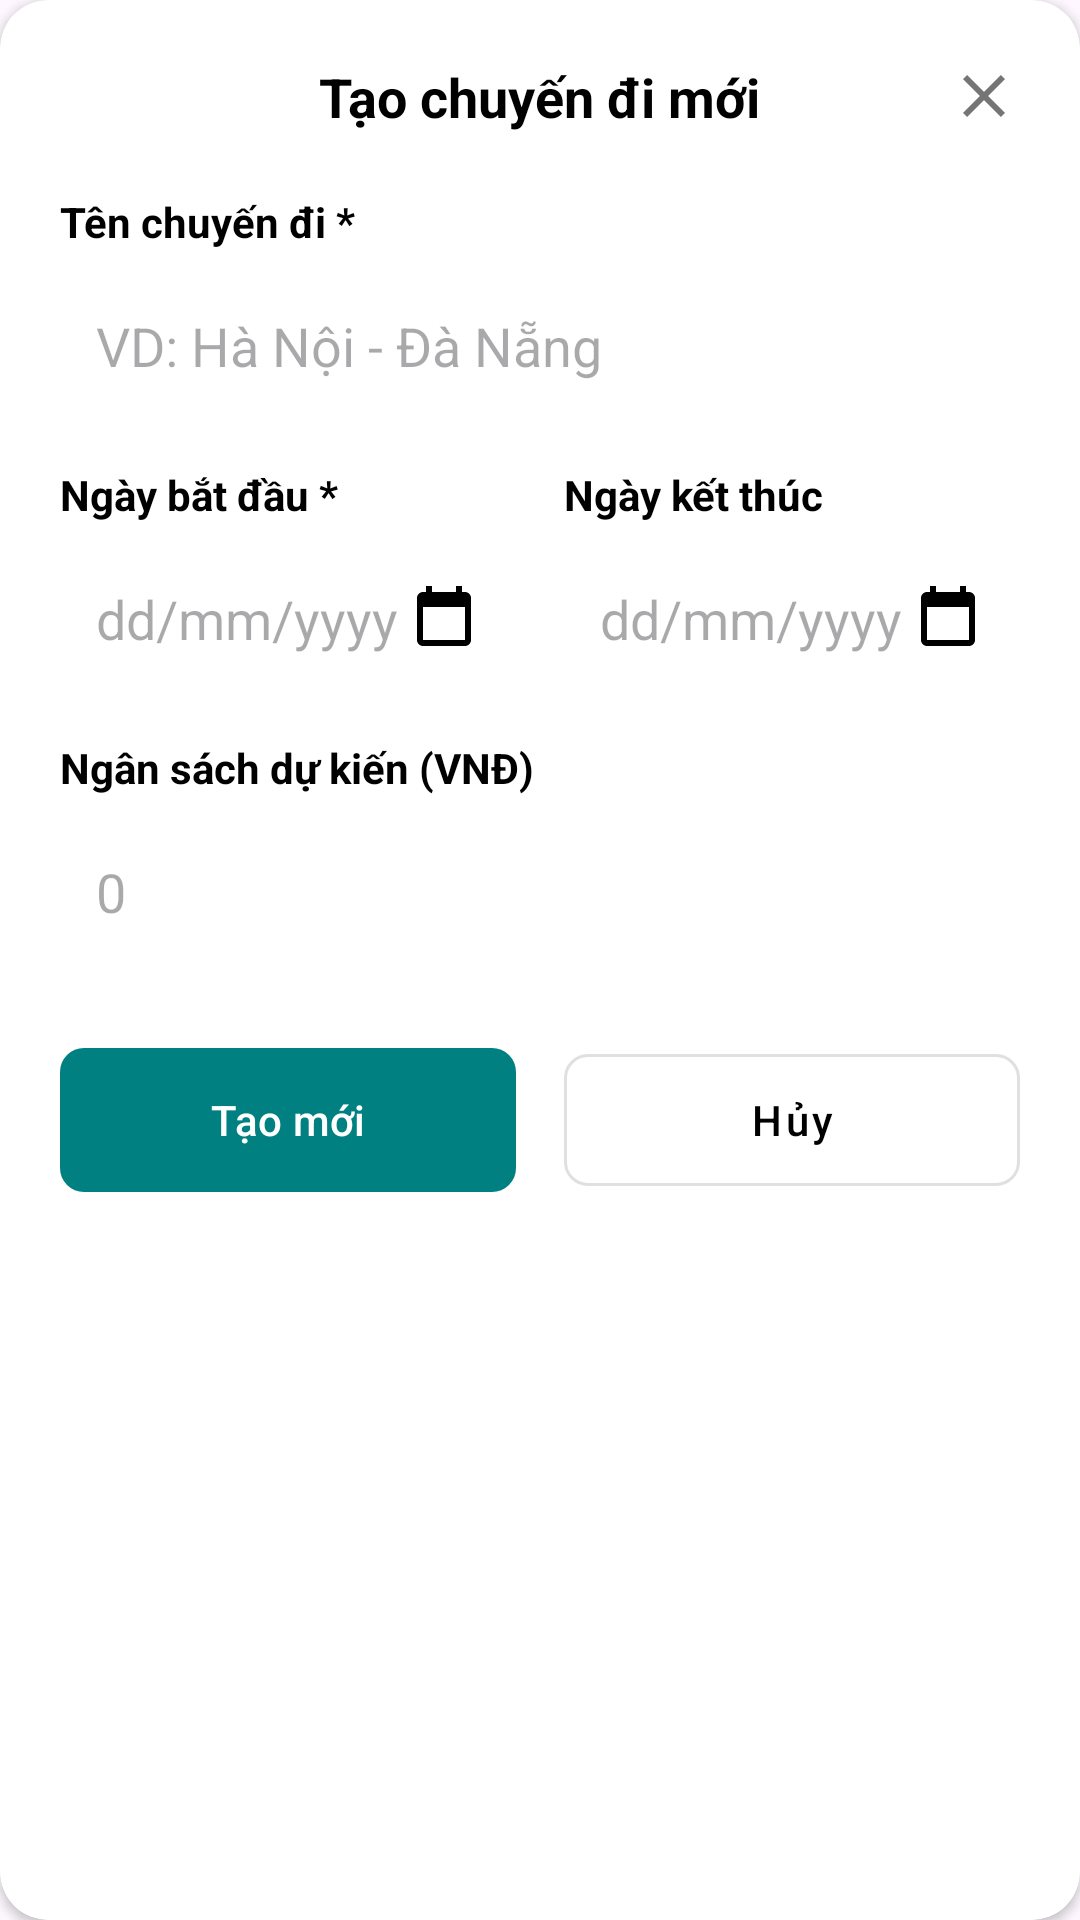

Screen size 1080px x 1920px. Icon name, then its center in pixels as (x,y):
close: (984,96)
